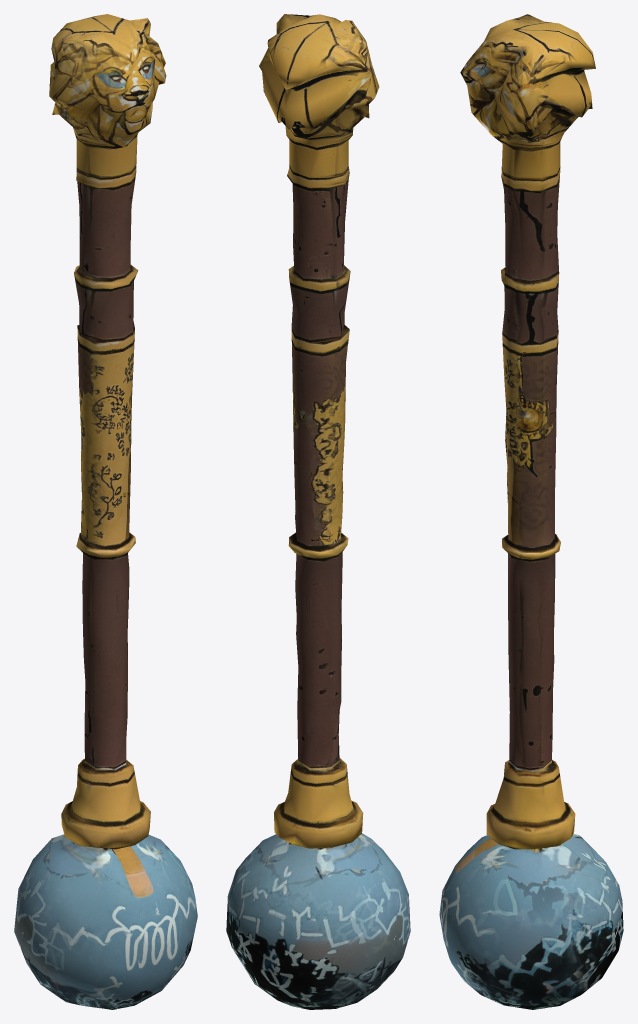
File: Varco_LionStaff.fbx
The picture shows the model from 3 angles, left to right: view 1: azimuth 30°, elevation 25°; view 2: azimuth 150°, elevation 25°; view 3: azimuth 270°, elevation 25°; orthographic projection.
Visible parts, largest first — view 1: texture_mapping; view 2: texture_mapping; view 3: texture_mapping.
Boxes of the visible parts, x1,y1,x2,y2 form: texture_mapping: [14, 14, 197, 1009]; texture_mapping: [226, 14, 410, 1009]; texture_mapping: [439, 14, 623, 1009].
Size of the model in its own units: 0.1706 by 0.1715 by 1.
Materials: 1 (1 with a texture image).
